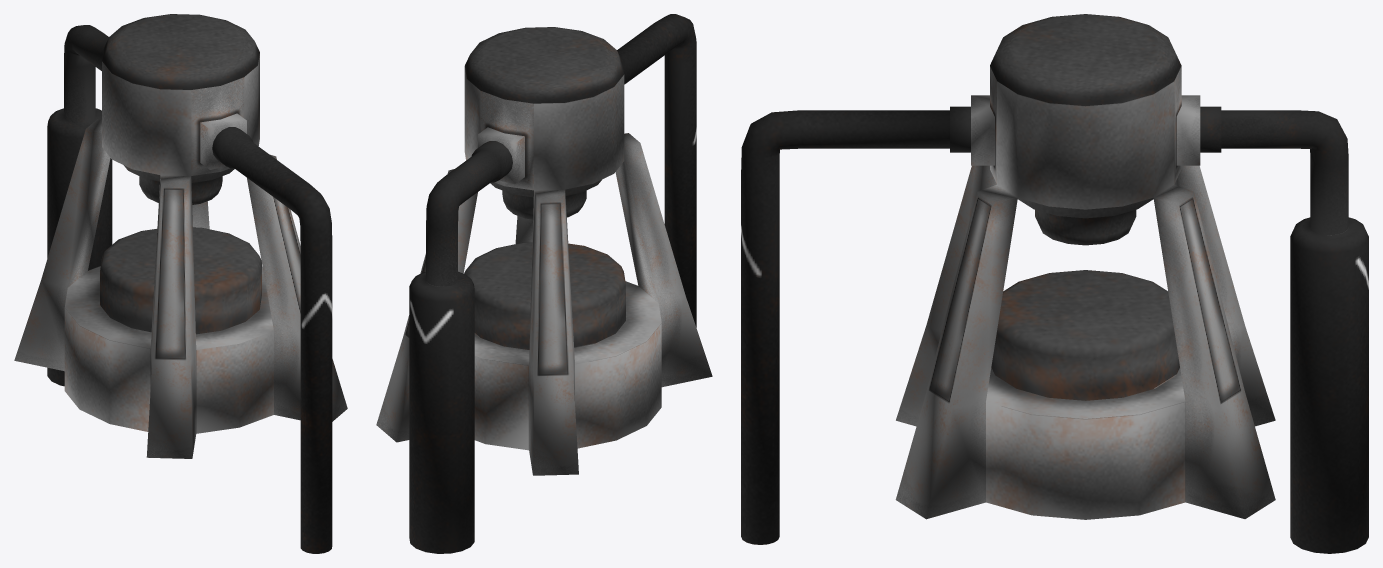
File: WaterDistiller.fbx
3 views of the same model, side by side, from view 1: azimuth 30°, elevation 25°; view 2: azimuth 150°, elevation 25°; view 3: azimuth 270°, elevation 25° (orthographic). The views are drawn at different scales.
Parts seen in each view (by area): view 1: Water Pump; view 2: Water Pump; view 3: Water Pump.
Part boxes in pixels (x1,y1,x2,y2): Water Pump: (14, 14, 347, 553); Water Pump: (376, 14, 712, 553); Water Pump: (741, 14, 1368, 553).
Size of the model in its own units: 200 by 384 by 445.
